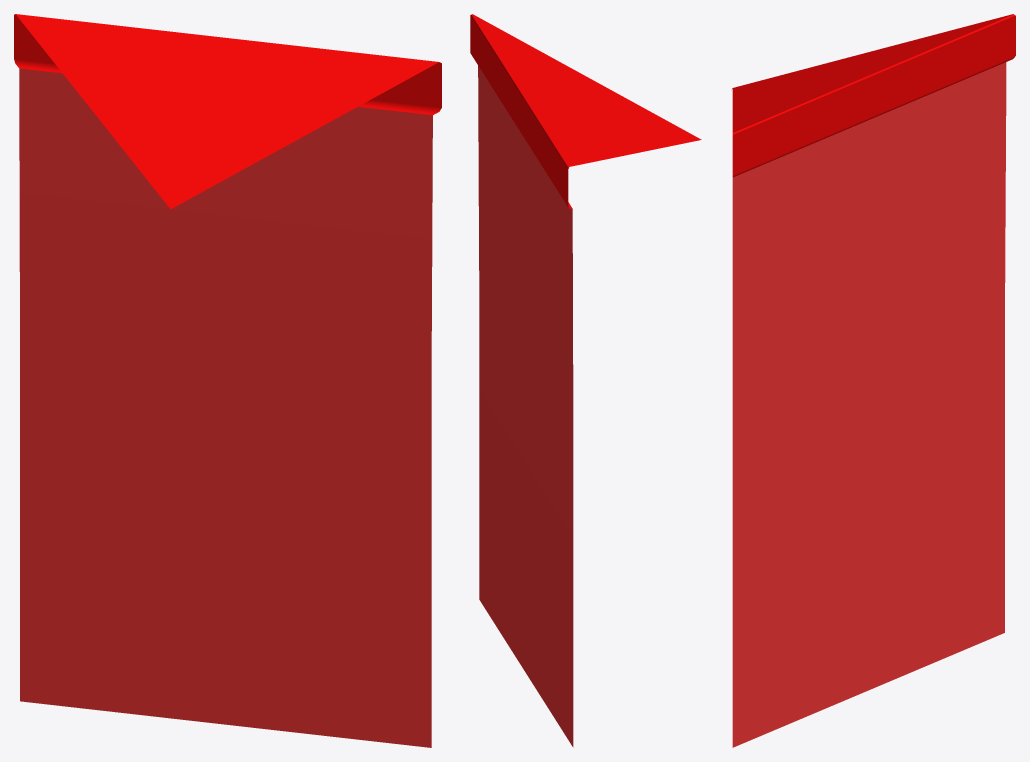
The model's file is Battlements_Cornerfill.fbx.
3 views of the same model, side by side, from view 1: azimuth 30°, elevation 25°; view 2: azimuth 150°, elevation 25°; view 3: azimuth 270°, elevation 25° (orthographic). The views are drawn at different scales.
Parts seen in each view (by area): view 1: Battlements_Cornerfill VC; view 2: Battlements_Cornerfill VC; view 3: Battlements_Cornerfill VC.
Boxes of the visible parts, <box> form: Battlements_Cornerfill VC: <box>14,14,441,747</box>; Battlements_Cornerfill VC: <box>470,14,701,747</box>; Battlements_Cornerfill VC: <box>732,14,1015,747</box>.
Bounding box in the file's own units: 78 × 188 × 78.4.
